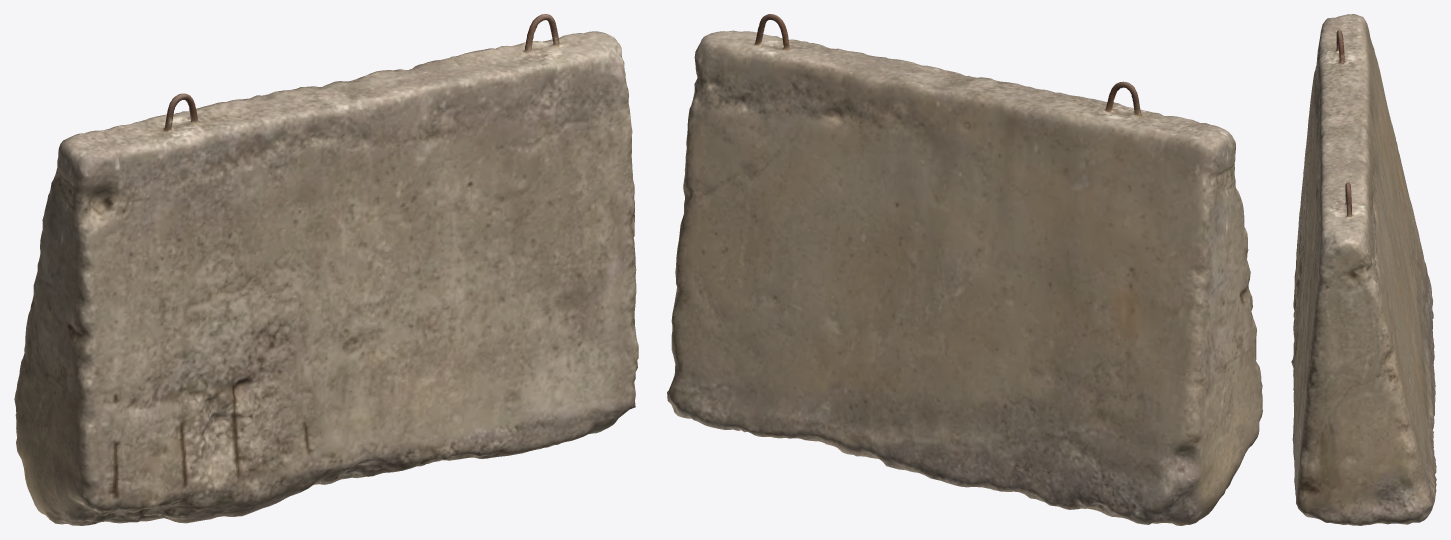
File: concrete_road_barrier_02.glb
The picture shows the model from 3 angles, left to right: view 1: azimuth 30°, elevation 25°; view 2: azimuth 150°, elevation 25°; view 3: azimuth 270°, elevation 25°; orthographic projection. The views are drawn at different scales.
Parts seen in each view (by area): view 1: concrete_road_barrier_02; view 2: concrete_road_barrier_02; view 3: concrete_road_barrier_02.
Boxes of the visible parts, bbox=[...] form: concrete_road_barrier_02: bbox=[14, 14, 638, 525]; concrete_road_barrier_02: bbox=[667, 14, 1262, 525]; concrete_road_barrier_02: bbox=[1291, 14, 1436, 525].
Bounding box in the file's own units: 1.57 × 1.11 × 0.4422.
1 material, 1 textured.
